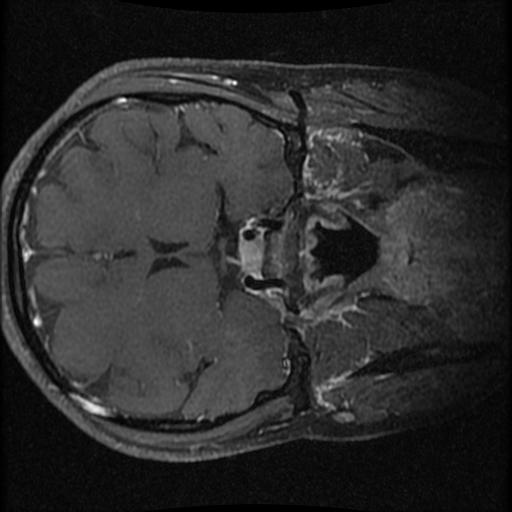pituitary tumour: (240, 239, 263, 278)
